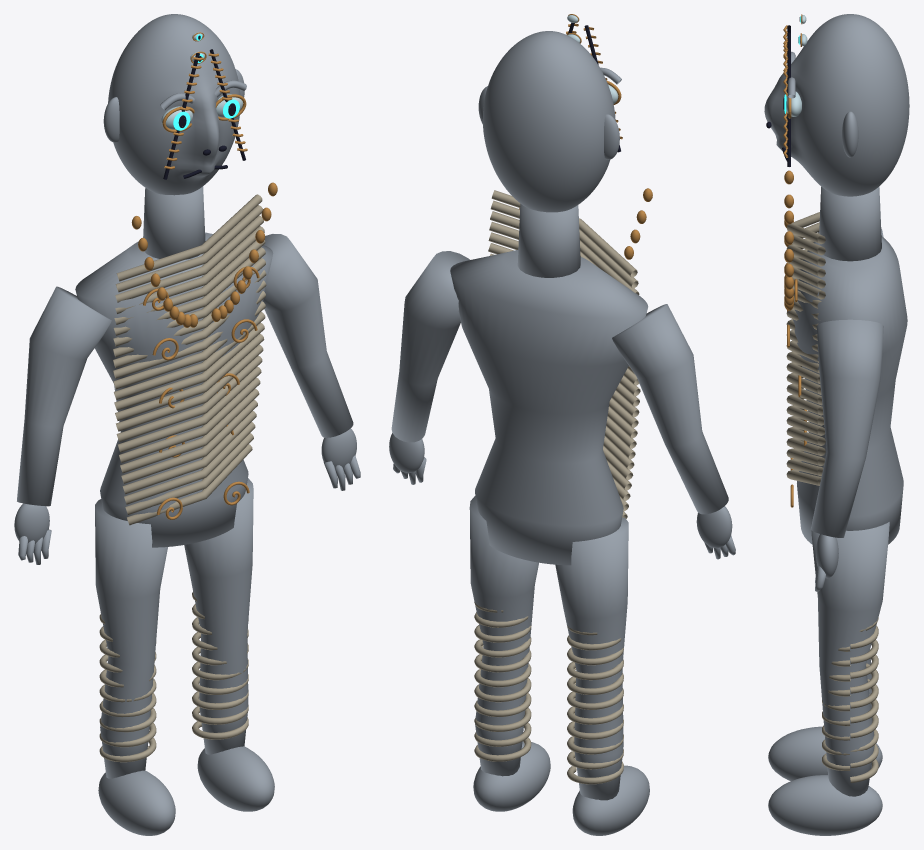
Rendered from cyberdine.glb.
3 renders of one model, left to right at view 1: azimuth 30°, elevation 25°; view 2: azimuth 150°, elevation 25°; view 3: azimuth 270°, elevation 25°, orthographic.
Parts seen in each view (by area): view 1: Cyberdine / bone.003, Cyberdine / linen.003, Cyberdine / gold.003, Cyberdine / ink.003; view 2: Cyberdine / bone.003, Cyberdine / linen.003, Cyberdine / gold.003; view 3: Cyberdine / bone.003, Cyberdine / linen.003, Cyberdine / gold.003, Cyberdine / ink.003, Cyberdine / pearl.003.
Part boxes in pixels (x1=…): Cyberdine / bone.003: x1=14, y1=14, x2=360, y2=835; Cyberdine / linen.003: x1=99, y1=194, x2=266, y2=762; Cyberdine / gold.003: x1=131, y1=32, x2=277, y2=519; Cyberdine / ink.003: x1=163, y1=35, x2=245, y2=179; Cyberdine / bone.003: x1=389, y1=31, x2=735, y2=835; Cyberdine / linen.003: x1=474, y1=190, x2=640, y2=784; Cyberdine / gold.003: x1=519, y1=14, x2=652, y2=259; Cyberdine / bone.003: x1=764, y1=14, x2=909, y2=835; Cyberdine / linen.003: x1=786, y1=212, x2=878, y2=782; Cyberdine / gold.003: x1=783, y1=14, x2=806, y2=507; Cyberdine / ink.003: x1=766, y1=17, x2=799, y2=166; Cyberdine / pearl.003: x1=786, y1=15, x2=807, y2=116.
Size of the model in its own units: 1.03 by 2.29 by 0.3796.
